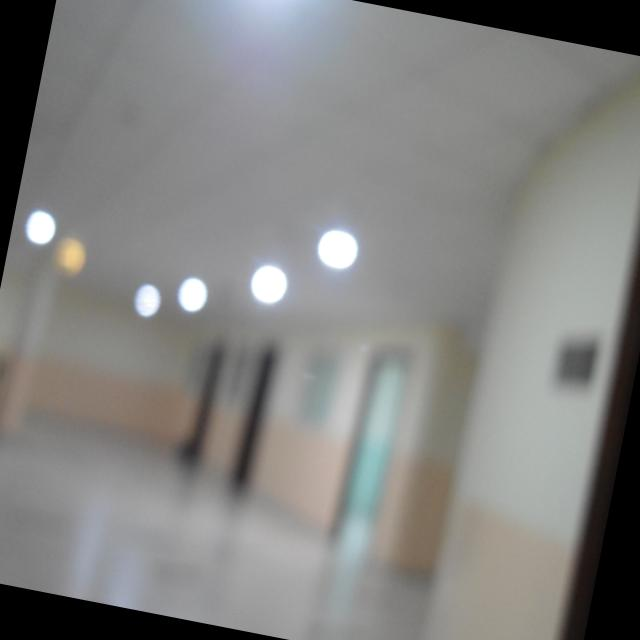door: (544, 177, 640, 640), (330, 336, 415, 541), (228, 349, 282, 491), (177, 337, 230, 478)
pillar: (0, 227, 72, 441)
wall: (150, 279, 444, 561), (0, 259, 195, 456)
